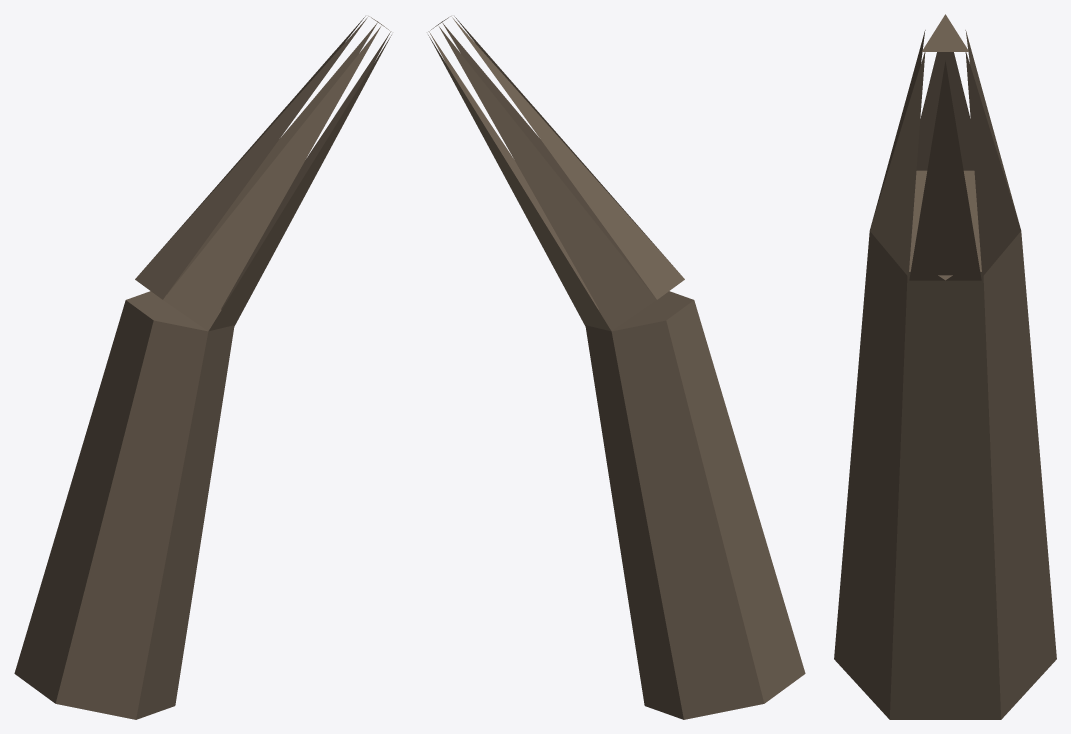
File: nature_dead_c_lod1.glb
3 renders of one model, left to right at view 1: azimuth 30°, elevation 25°; view 2: azimuth 150°, elevation 25°; view 3: azimuth 270°, elevation 25°, orthographic. The views are drawn at different scales.
Visible parts, largest first — view 1: nature_dead_c_lod1; view 2: nature_dead_c_lod1; view 3: nature_dead_c_lod1.
Part boxes in pixels (x1,y1,x2,y2): nature_dead_c_lod1: (14, 16, 391, 719); nature_dead_c_lod1: (428, 16, 805, 719); nature_dead_c_lod1: (834, 14, 1056, 719).
Size of the model in its own units: 1.25 by 2.09 by 0.5.
